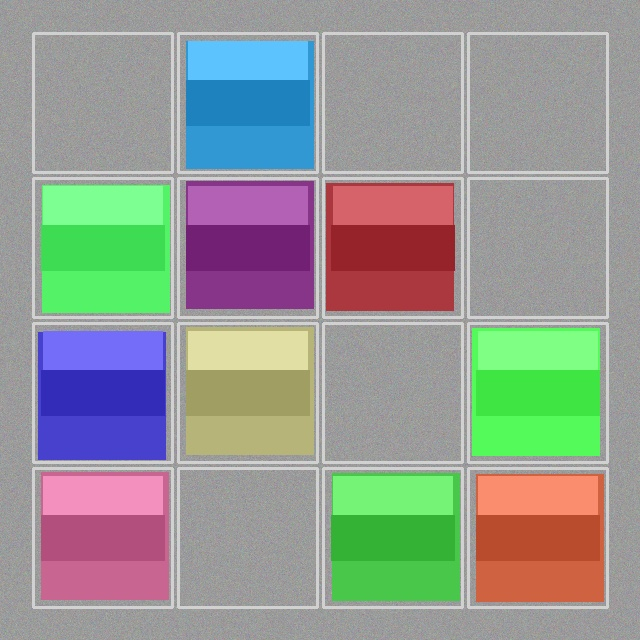space-empty: (35, 35, 170, 170), (325, 35, 460, 170), (470, 35, 605, 170), (470, 180, 605, 315), (325, 325, 460, 460), (180, 470, 315, 605)
space-occupied: (180, 35, 315, 170), (35, 180, 170, 315), (180, 180, 315, 315), (325, 180, 460, 315), (35, 325, 170, 460), (180, 325, 315, 460), (470, 325, 605, 460), (35, 470, 170, 605), (325, 470, 460, 605), (470, 470, 605, 605)
